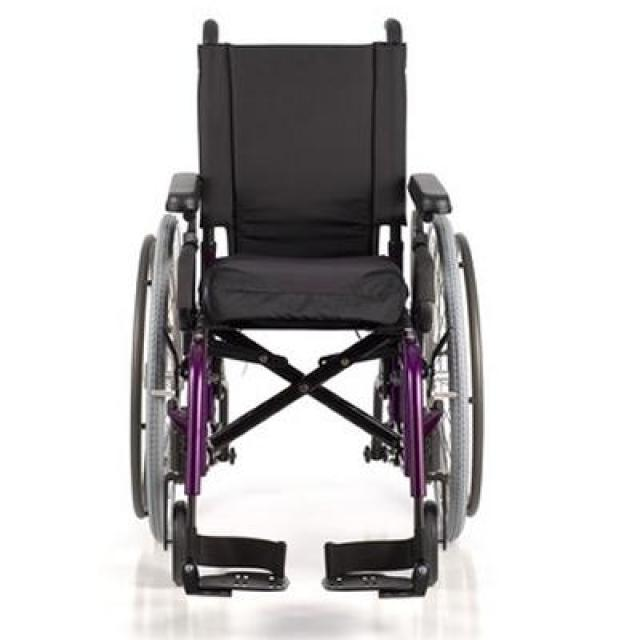wheelchairs: (128, 15, 486, 598)
